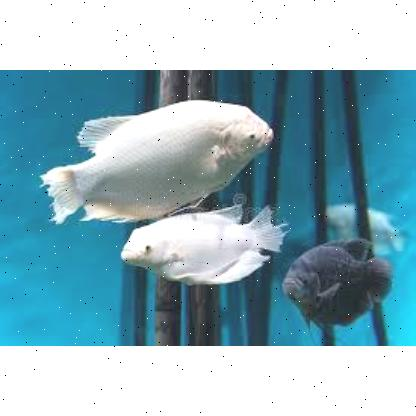gurame: (49, 98, 278, 216), (120, 219, 264, 287)
